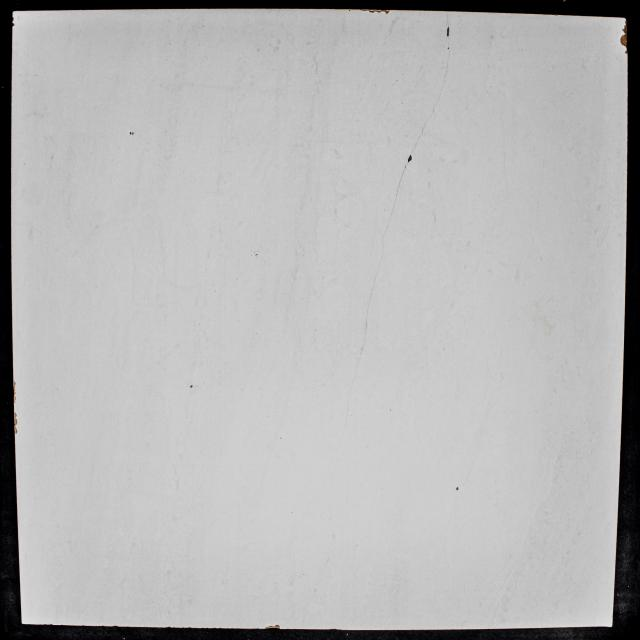edge-chipping: (358, 9, 392, 15), (620, 34, 628, 48), (13, 381, 16, 404), (14, 418, 18, 434), (622, 25, 628, 33), (265, 625, 274, 629), (274, 624, 280, 629), (625, 49, 628, 55), (14, 412, 17, 417), (12, 16, 14, 22), (12, 23, 15, 27), (625, 20, 627, 24)
hole: (407, 154, 412, 164), (130, 132, 134, 136), (456, 486, 459, 491), (190, 385, 193, 388)
line: (412, 92, 441, 154), (365, 264, 380, 329), (380, 202, 396, 260), (441, 38, 454, 91), (395, 164, 408, 198), (357, 332, 367, 369)
